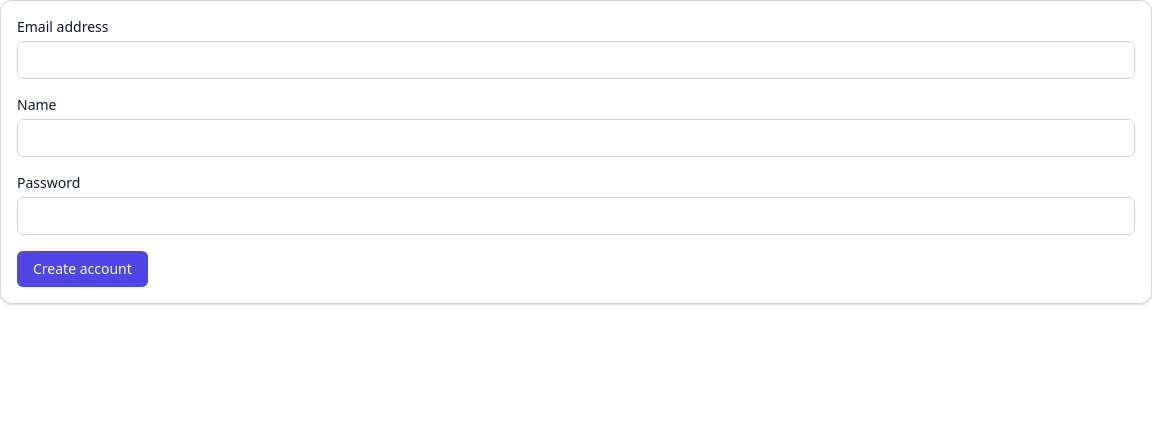
Test case: RegisterForm › renders every password error the API reports
The image size is (1152, 423).
Type "sam@example.com" into the field labelled "Email address" at (576, 60), box 17,41 -> 1135,79
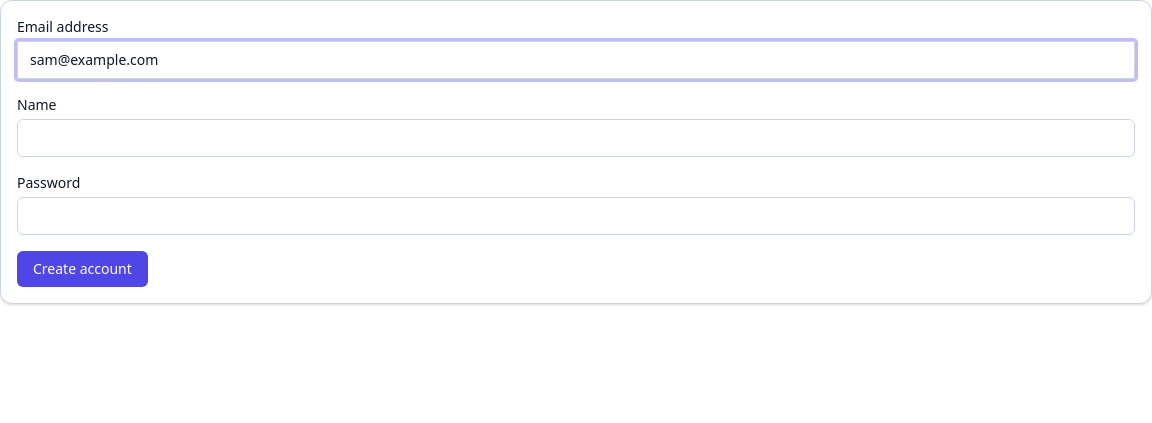
Type "Sam Student" into the field labelled "Name" at (576, 138), box 17,119 -> 1135,157
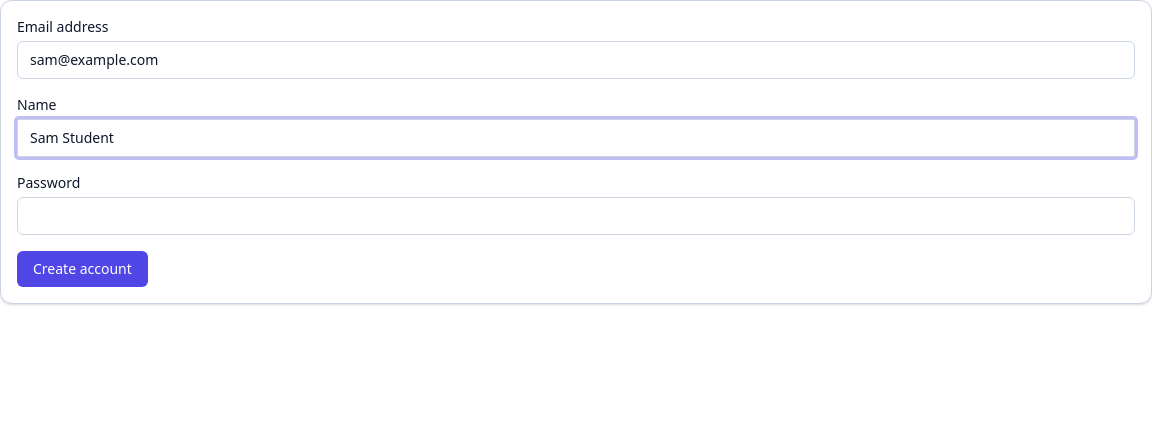
Type "password" into the password field labelled "Password" at (576, 216), box 17,197 -> 1135,235
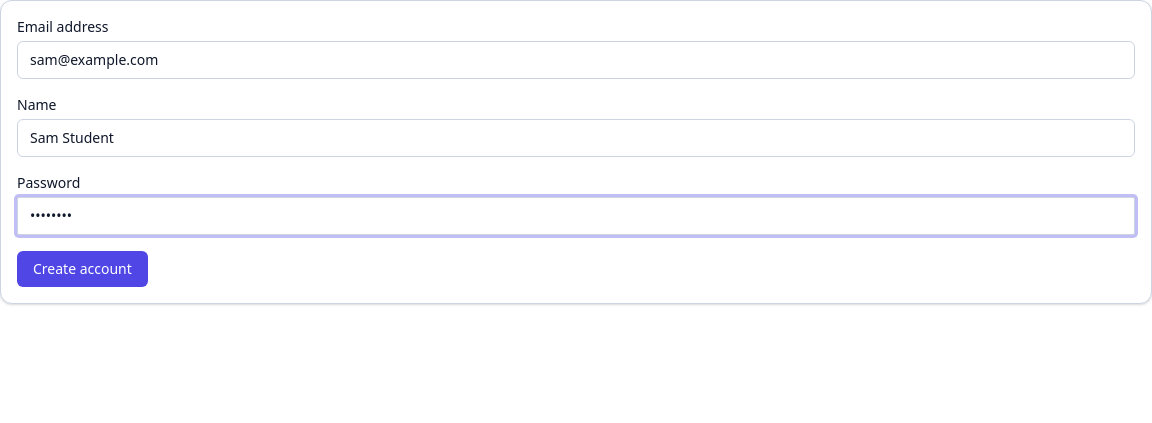
Click the button "Create account" at (82, 269), box 17,251 -> 148,287
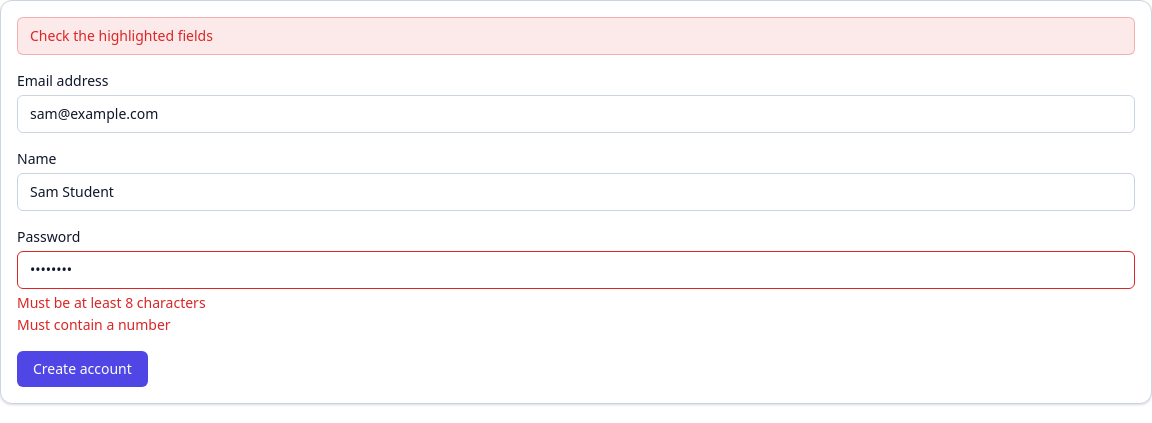
expect the list item "Must be at least 8 characters" is shown: met, box 17,293 -> 206,312
expect the list item "Must contain a number" is shown: met, box 17,315 -> 171,334
